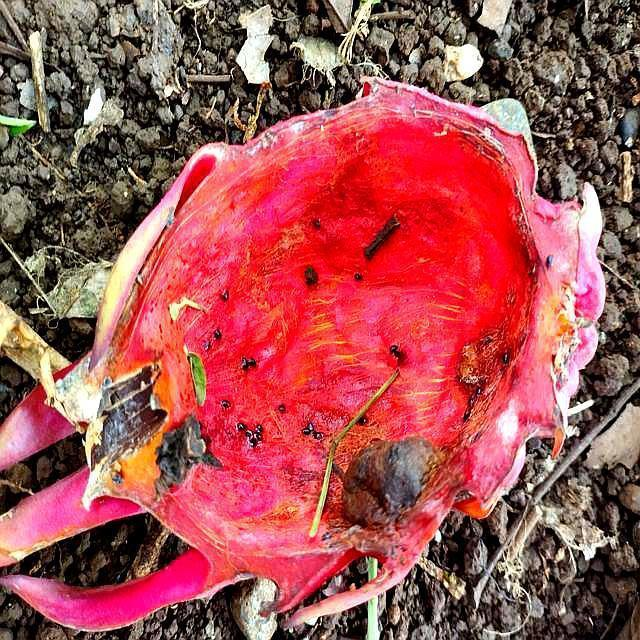Biodegradable: (67, 77, 581, 569)
